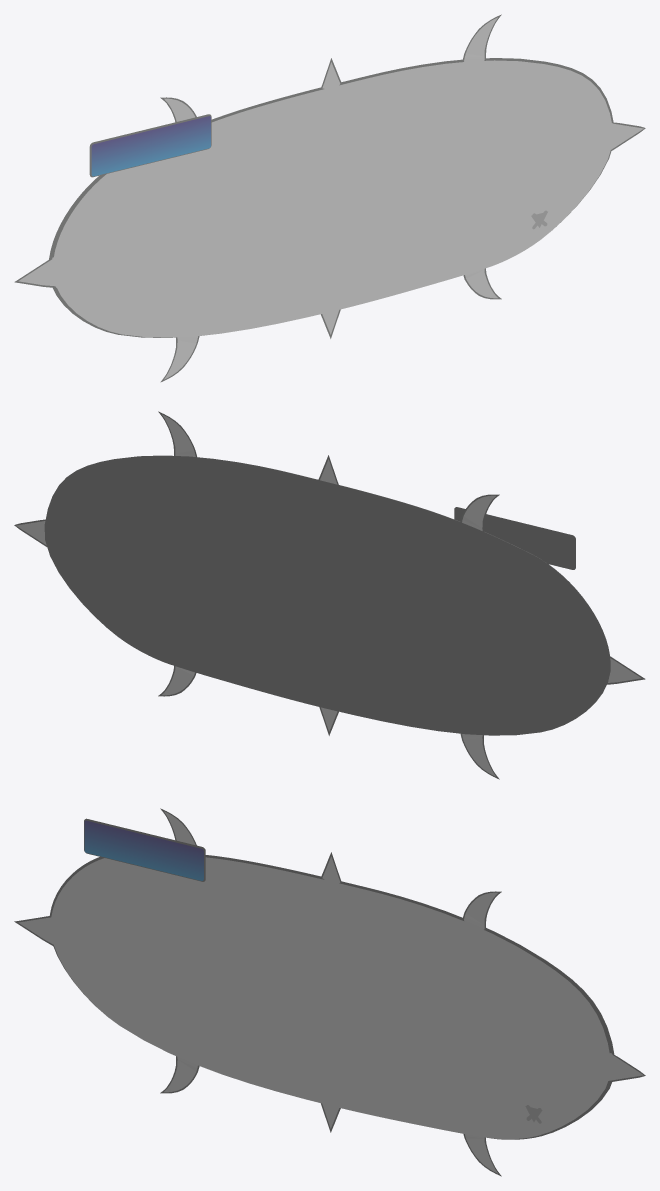
File: large_bubble_move_group_v01.fbx
3 renders of one model, top to bottom at view 1: azimuth 30°, elevation 25°; view 2: azimuth 150°, elevation 25°; view 3: azimuth 330°, elevation 25°, orthographic.
Parts seen in each view (by area): view 1: large_bubble_text, large_name_text, large_bubble_outline, large_schweif_NE, large_schweif_SW, large_schweif_W, large_schweif_SE, large_name_outline, large_schweif_E; view 2: large_bubble_outline, large_name_outline, large_schweif_NW, large_schweif_SW, large_schweif_NE, large_schweif_SE, large_schweif_W; view 3: large_bubble_text, large_name_text, large_bubble_outline, large_schweif_NE, large_schweif_SW, large_schweif_SE, large_schweif_W, large_schweif_E, large_name_outline.
Boxes of the visible parts, bbox=[...] form: large_bubble_text: bbox=[53, 60, 612, 337]; large_name_text: bbox=[91, 116, 210, 176]; large_bubble_outline: bbox=[49, 58, 613, 337]; large_schweif_NE: bbox=[462, 14, 501, 61]; large_schweif_SW: bbox=[160, 336, 199, 382]; large_schweif_W: bbox=[14, 257, 56, 287]; large_schweif_SE: bbox=[463, 268, 501, 299]; large_name_outline: bbox=[89, 114, 211, 177]; large_schweif_E: bbox=[610, 122, 645, 151]; large_bubble_outline: bbox=[44, 455, 610, 735]; large_name_outline: bbox=[454, 507, 575, 569]; large_schweif_NW: bbox=[460, 494, 499, 531]; large_schweif_SW: bbox=[460, 733, 499, 779]; large_schweif_NE: bbox=[158, 411, 196, 457]; large_schweif_SE: bbox=[158, 666, 196, 696]; large_schweif_W: bbox=[607, 656, 645, 684]; large_bubble_text: bbox=[50, 857, 610, 1139]; large_name_text: bbox=[84, 820, 203, 880]; large_bubble_outline: bbox=[49, 855, 614, 1139]; large_schweif_NE: bbox=[462, 891, 501, 929]; large_schweif_SW: bbox=[160, 1056, 199, 1093]; large_schweif_SE: bbox=[463, 1134, 501, 1176]; large_schweif_W: bbox=[14, 915, 54, 946]; large_schweif_E: bbox=[608, 1053, 645, 1082]; large_name_outline: bbox=[84, 818, 205, 881].
Size of the model in its own units: 10.11 by 4.35 by 0.11.
Materials: 6 (1 with a texture image).
